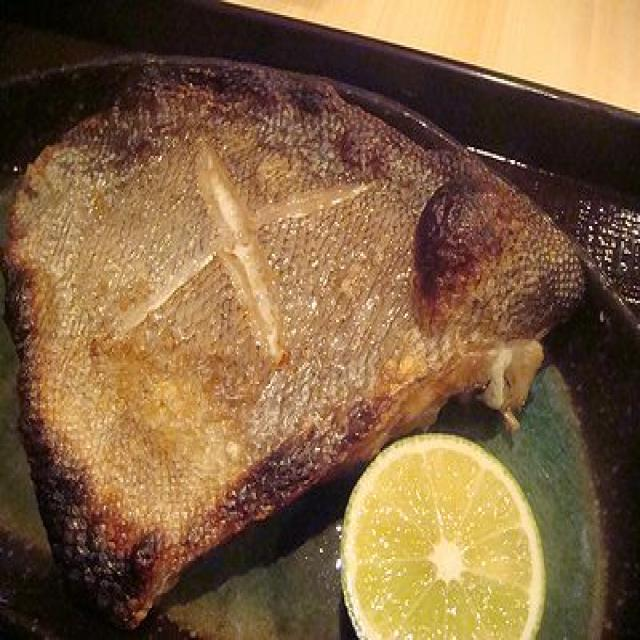熟制海鲜: (0, 26, 640, 632)
